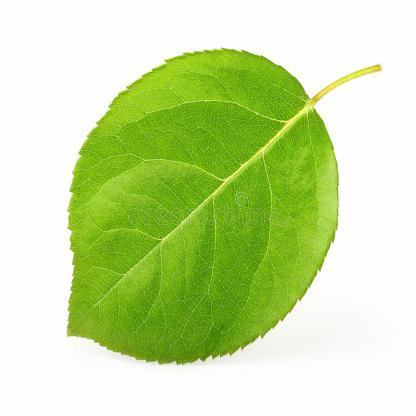Apple leaf: (64, 43, 343, 383)
